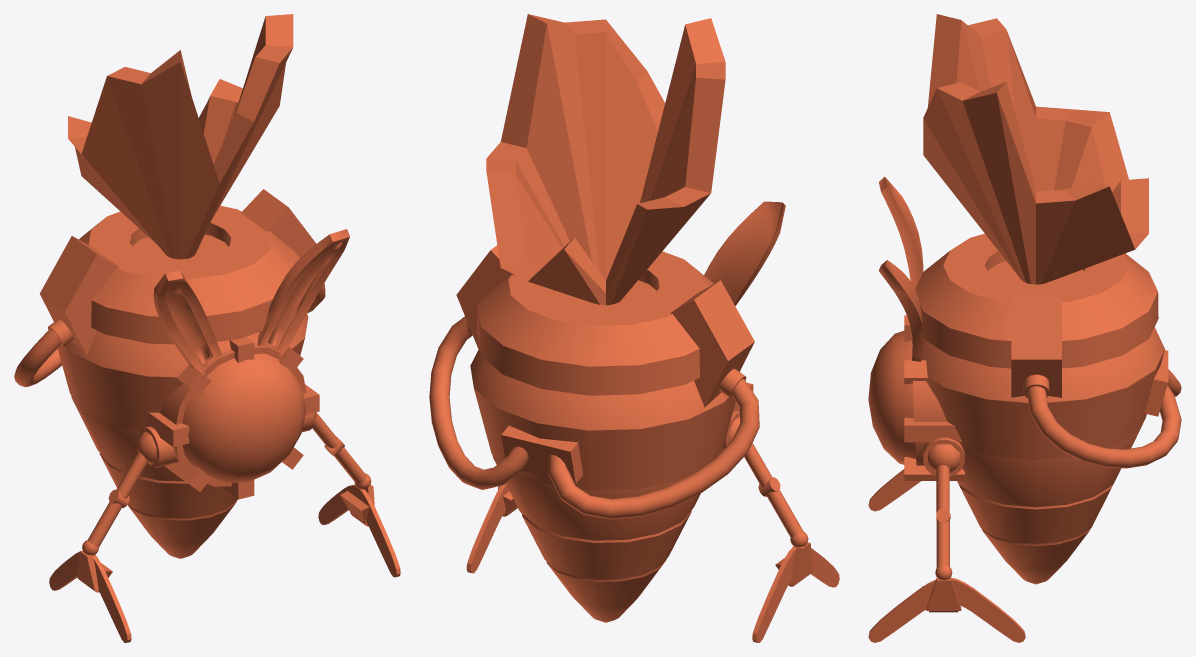
File: LanzaBomerang_Texturas2.fbx
3 views of the same model, side by side, from view 1: azimuth 30°, elevation 25°; view 2: azimuth 150°, elevation 25°; view 3: azimuth 270°, elevation 25° (orthographic). The views are drawn at different scales.
Visible parts, largest first — view 1: Rama_low, Zanahoria_low, CilindroCasco_low, Cabeza_low, Orejas_low, Hombros_low, CuadrosCabeza_low, Boomerang_low, Brazos_low, Tubos_low, Cilindomanos_low, Palma_low (+1 smaller); view 2: Rama_low, Zanahoria_low, CilindroCasco_low, Tubos_low, Hombros_low, Orejas_low, Boomerang_low, EspaldaEntradas_low, Brazos_low, Palma_low; view 3: Rama_low, Zanahoria_low, CilindroCasco_low, Cabeza_low, Hombros_low, Tubos_low, Boomerang_low, Orejas_low, CuadrosCabeza_low, Brazos_low, Palma_low, EspaldaEntradas_low (+2 smaller).
Boxes of the visible parts, x1,y1,x2,y2 form: Rama_low: [68, 14, 293, 259]; Zanahoria_low: [57, 314, 308, 558]; CilindroCasco_low: [79, 205, 299, 344]; Cabeza_low: [159, 344, 306, 486]; Orejas_low: [153, 229, 349, 374]; Hombros_low: [39, 189, 316, 355]; CuadrosCabeza_low: [144, 337, 319, 499]; Boomerang_low: [49, 484, 400, 642]; Brazos_low: [88, 412, 366, 547]; Tubos_low: [14, 283, 325, 387]; Cilindomanos_low: [138, 413, 314, 468]; Palma_low: [77, 484, 374, 591]; Rama_low: [486, 14, 725, 305]; Zanahoria_low: [470, 348, 735, 622]; CilindroCasco_low: [477, 251, 713, 395]; Tubos_low: [429, 316, 759, 519]; Hombros_low: [456, 245, 754, 407]; Orejas_low: [704, 201, 785, 305]; Boomerang_low: [466, 484, 839, 642]; EspaldaEntradas_low: [501, 425, 582, 483]; Brazos_low: [744, 443, 803, 537]; Palma_low: [498, 486, 812, 585]; Rama_low: [923, 14, 1148, 284]; Zanahoria_low: [921, 327, 1164, 584]; CilindroCasco_low: [915, 233, 1158, 368]; Cabeza_low: [868, 331, 947, 465]; Hombros_low: [1011, 293, 1061, 397]; Tubos_low: [1027, 369, 1181, 468]; Boomerang_low: [868, 469, 1025, 642]; Orejas_low: [878, 177, 923, 361]; CuadrosCabeza_low: [904, 315, 964, 480]; Brazos_low: [936, 464, 949, 568]; Palma_low: [926, 578, 961, 610]; EspaldaEntradas_low: [1144, 350, 1168, 416].
Size of the model in its own units: 254 by 440 by 229.
